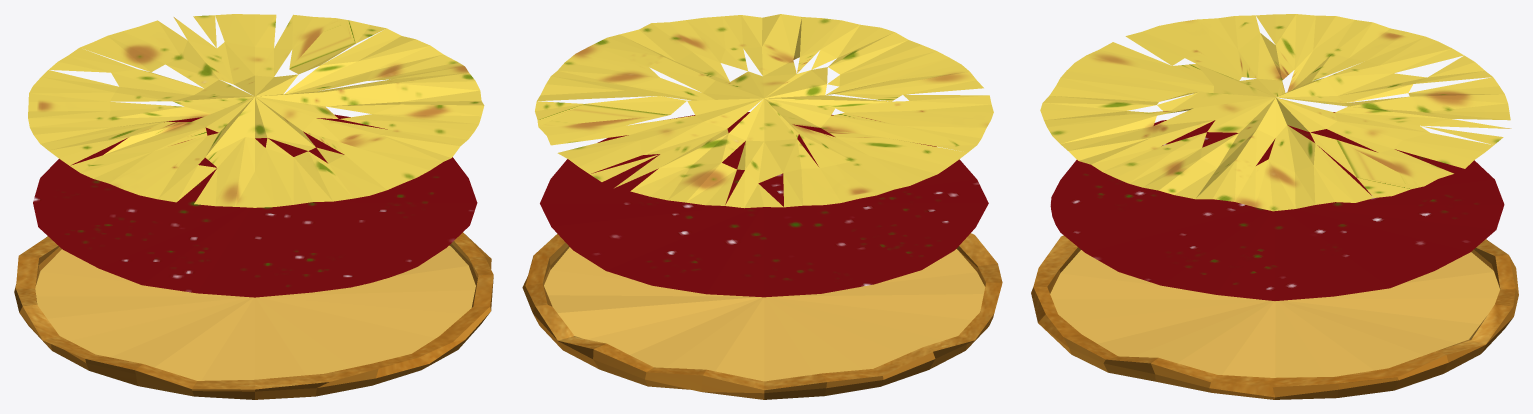
Rendered from Pizza.fbx.
The picture shows the model from 3 angles, left to right: view 1: azimuth 30°, elevation 25°; view 2: azimuth 150°, elevation 25°; view 3: azimuth 270°, elevation 25°; orthographic projection.
Visible parts, largest first — view 1: MassaDePizzaQueijada, MassaDePizzaSemnada, MassaDePizzaMolho; view 2: MassaDePizzaQueijada, MassaDePizzaSemnada, MassaDePizzaMolho; view 3: MassaDePizzaQueijada, MassaDePizzaSemnada, MassaDePizzaMolho.
Part boxes in pixels (left/top/right/bottom): MassaDePizzaQueijada: left=28, top=14, right=484, bottom=207; MassaDePizzaSemnada: left=14, top=232, right=493, bottom=399; MassaDePizzaMolho: left=33, top=114, right=477, bottom=297; MassaDePizzaQueijada: left=535, top=14, right=993, bottom=208; MassaDePizzaSemnada: left=522, top=233, right=1002, bottom=399; MassaDePizzaMolho: left=540, top=112, right=988, bottom=297; MassaDePizzaQueijada: left=1040, top=14, right=1511, bottom=211; MassaDePizzaSemnada: left=1031, top=235, right=1518, bottom=399; MassaDePizzaMolho: left=1050, top=112, right=1504, bottom=300.
Bounding box in the file's own units: 199 × 91.77 × 196.
